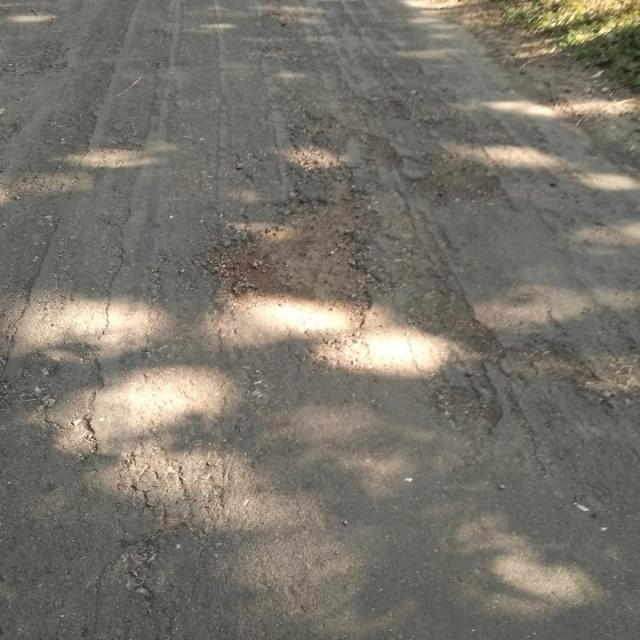pothole: (190, 182, 377, 354)
